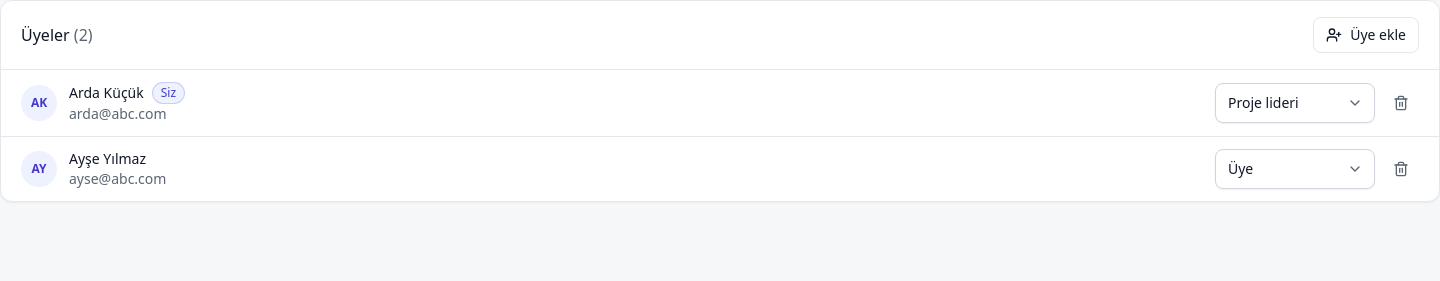
Test case: ProjectMembers › explains why the last lead cannot step down
Step 1. Select "Üye" in the dropdown named "Arda Küçük projedeki rolü" → point(1295, 103), box [1215, 83, 1375, 123]
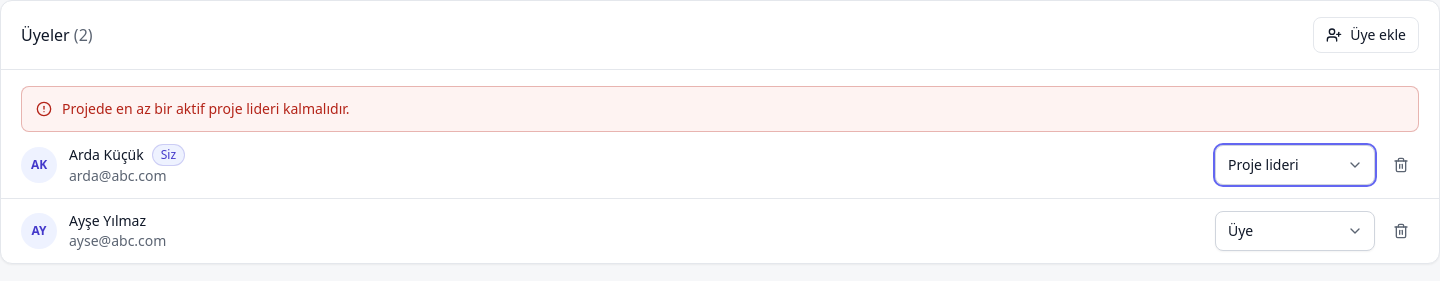
Result: the message shows "en az bir aktif proje lideri" at [62, 99, 350, 118]
